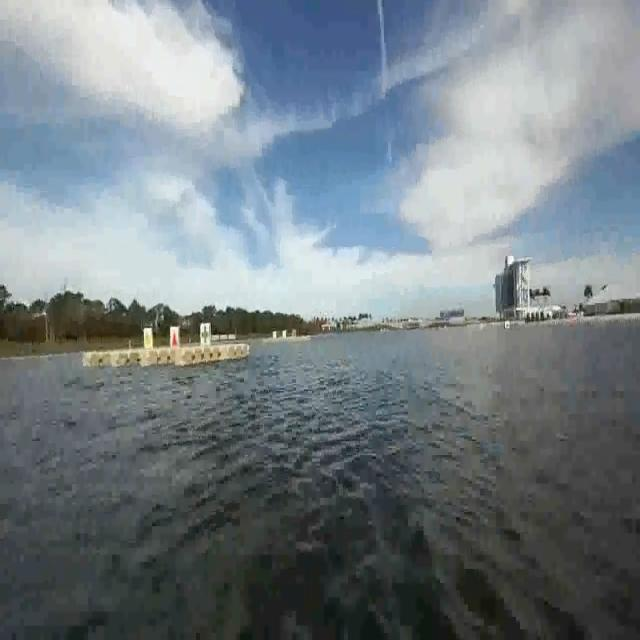blue-cross: (198, 322, 211, 346)
red-dot: (169, 326, 180, 350)
yellow-duck: (144, 327, 155, 353)
